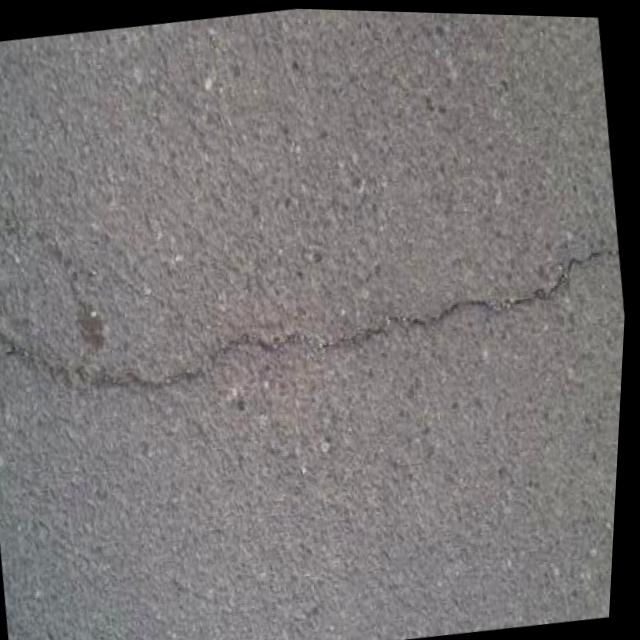Crack: (0, 199, 632, 457)
